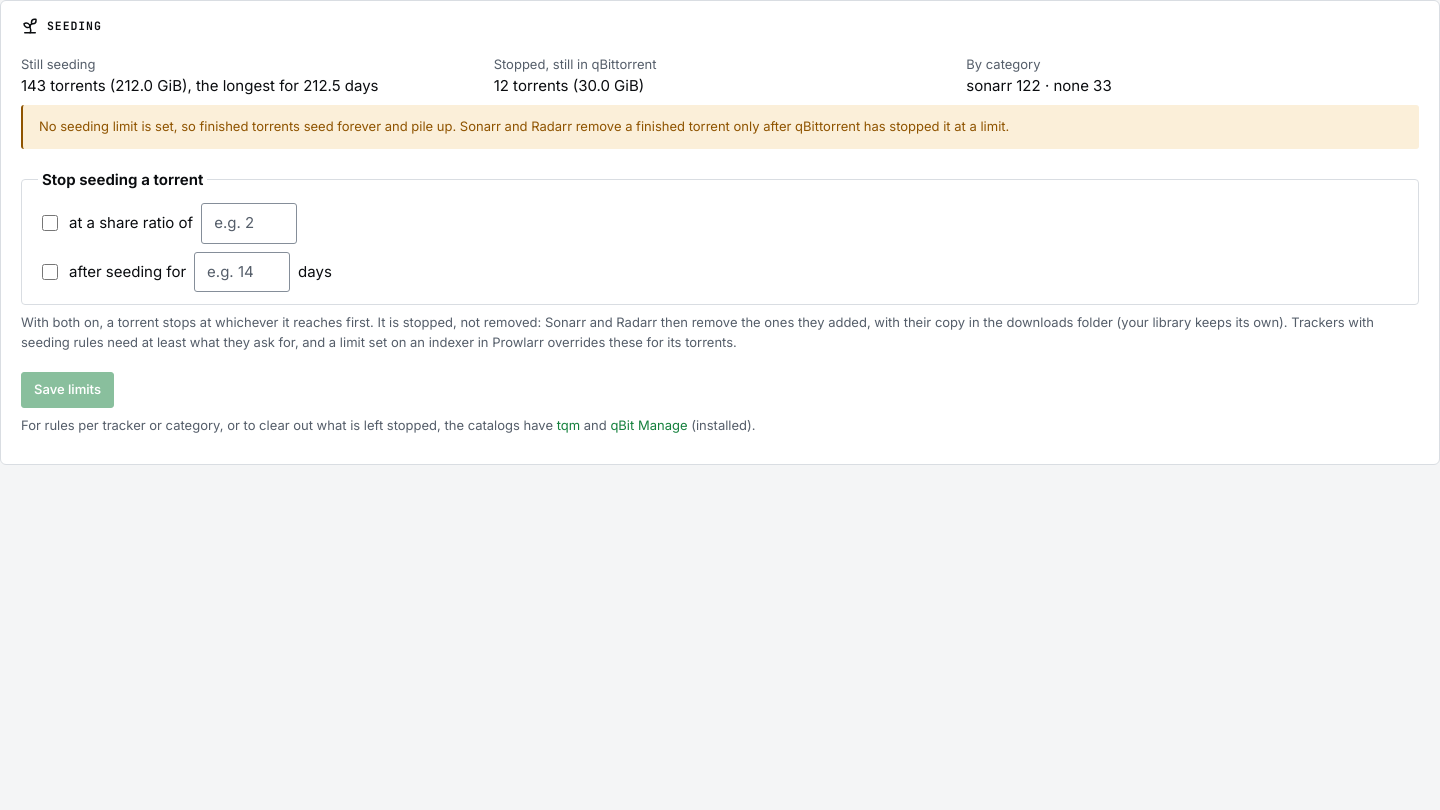
Test case: SeedingCard › says nothing will ever stop, and saves the limits typed in
Check: the element "Seeding" shows "143 torrents (212.0 GiB), the longest for 212.5 days", box left=0, top=0, right=1439, bottom=464
Check: the element "Seeding" shows "12 torrents (30.0 GiB)", box left=494, top=76, right=644, bottom=94
Click the checkbox labelled "at a share ratio of".
click(50, 223)  # box left=42, top=215, right=58, bottom=231
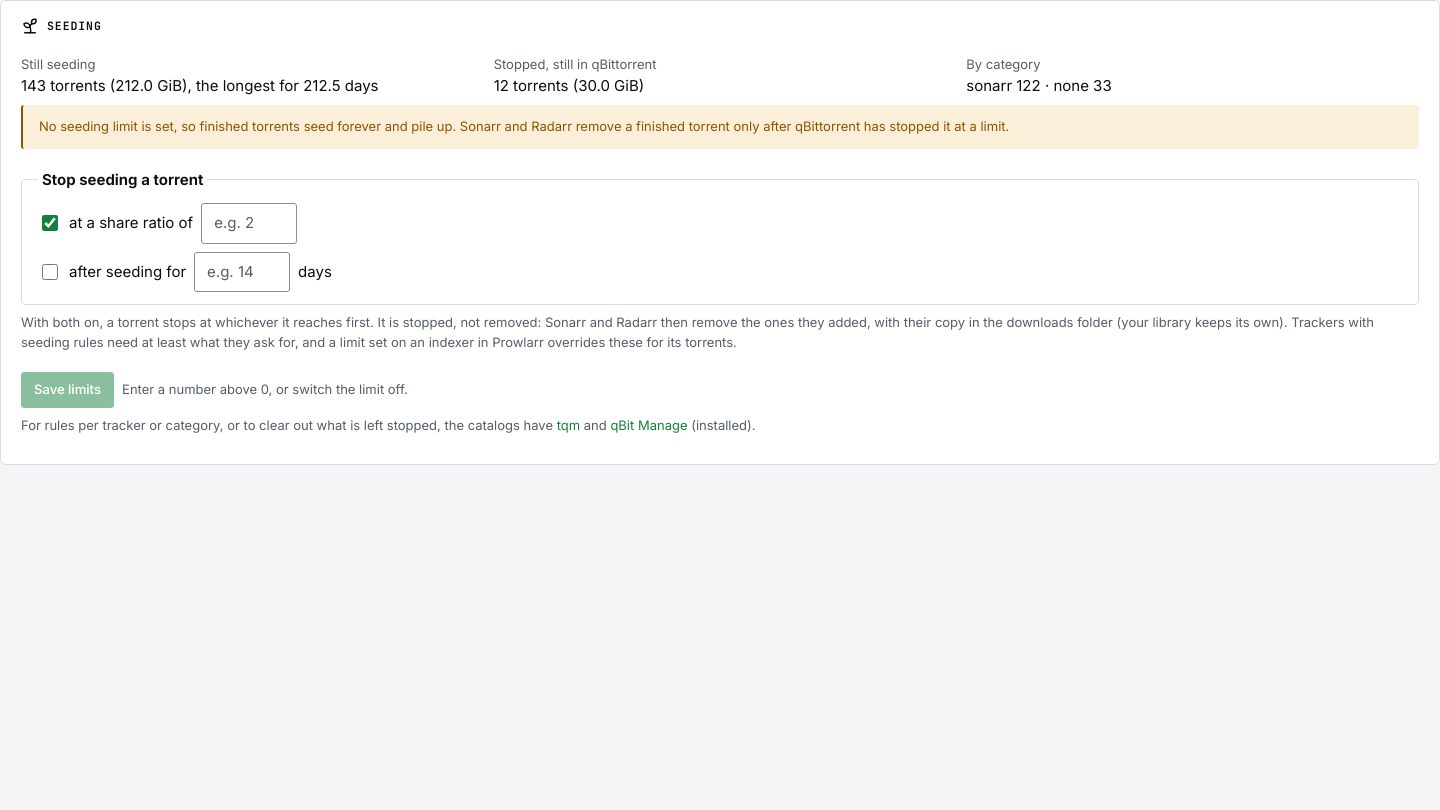
Check: the button "Save limits" is disabled, box left=21, top=372, right=114, bottom=408
Type "2" into the field named "Share ratio".
click(249, 223); type("2")  # box left=201, top=203, right=297, bottom=244
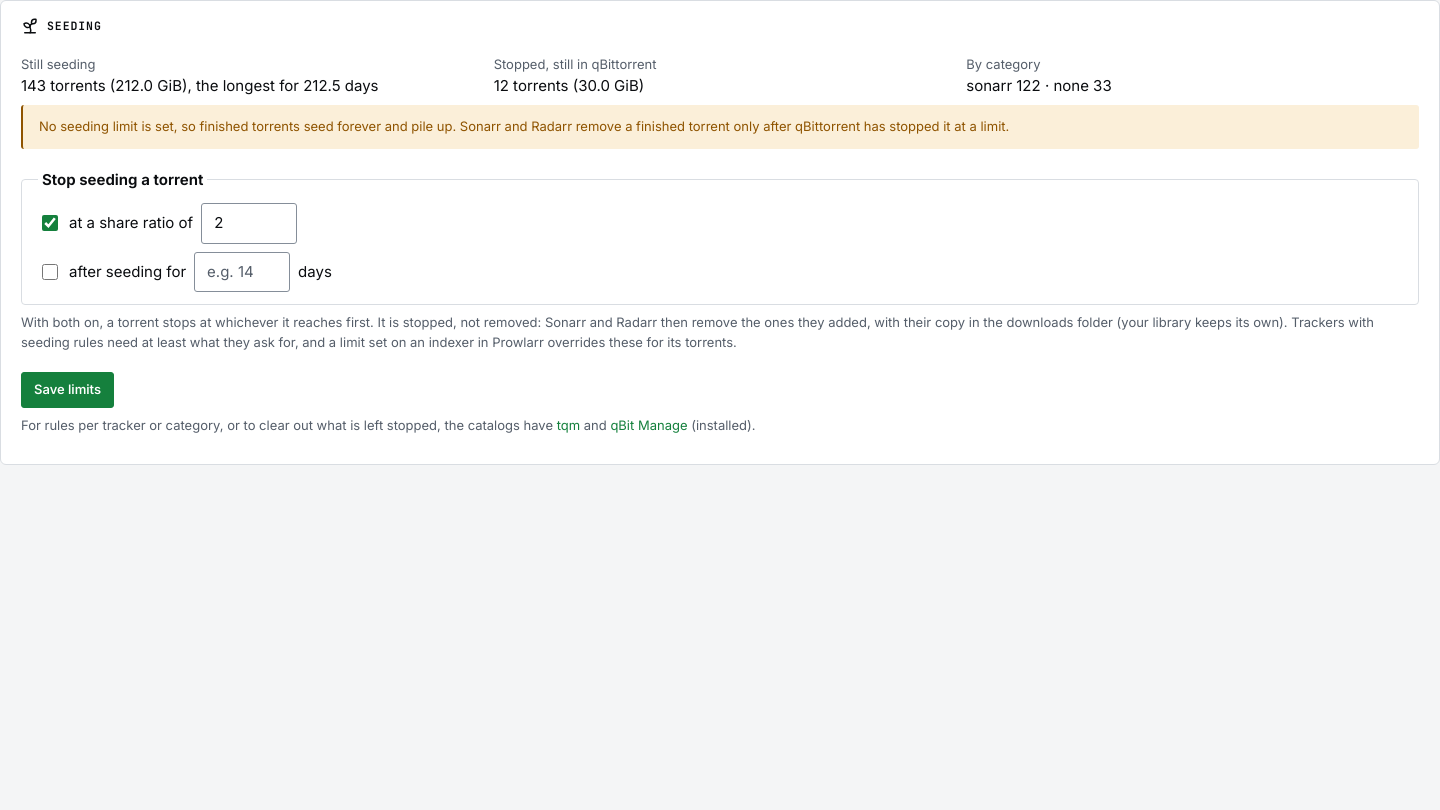
Click the checkbox labelled "after seeding for".
click(50, 272)  # box left=42, top=264, right=58, bottom=280
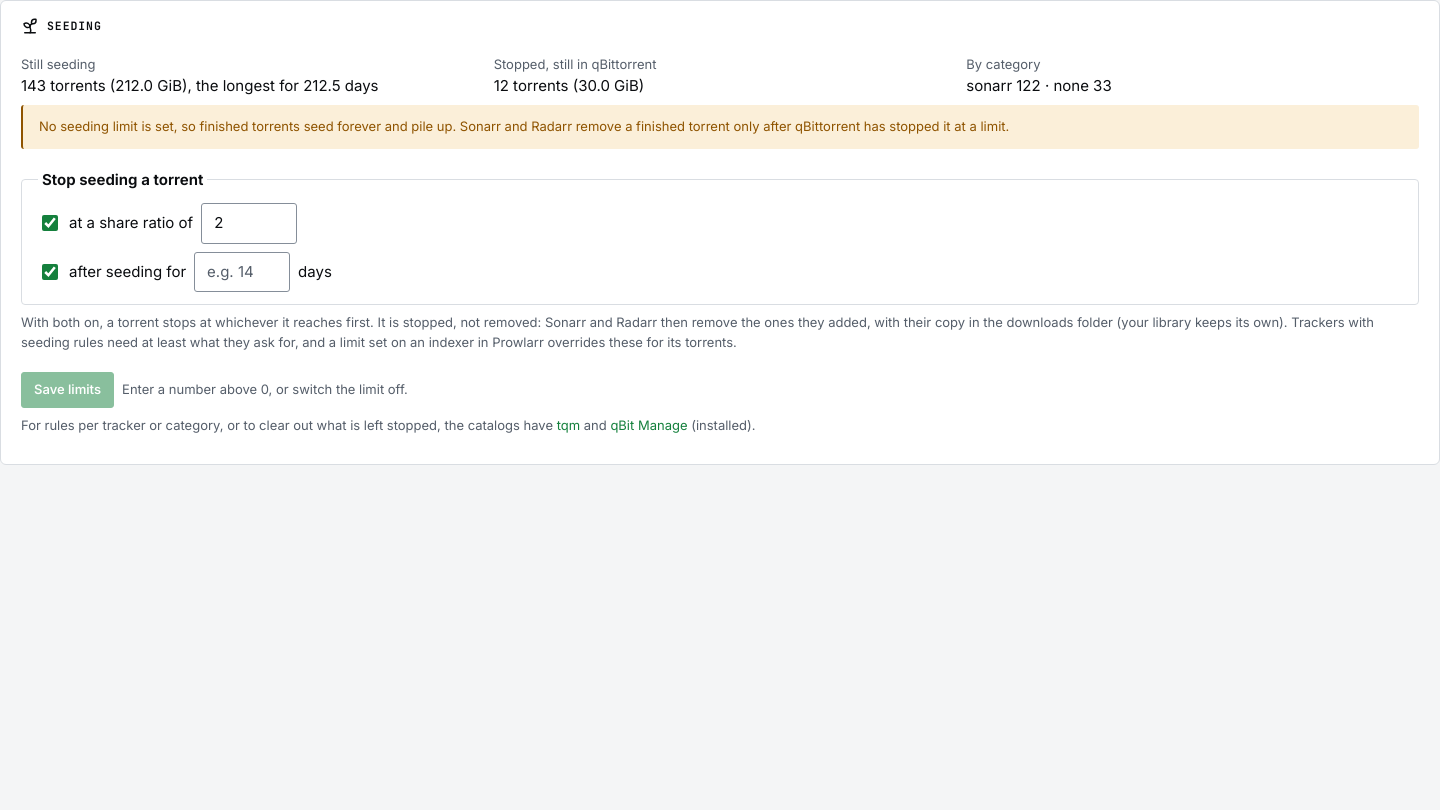
Type "14" into the field named "Days of seeding".
click(242, 272); type("14")  # box left=194, top=252, right=290, bottom=292
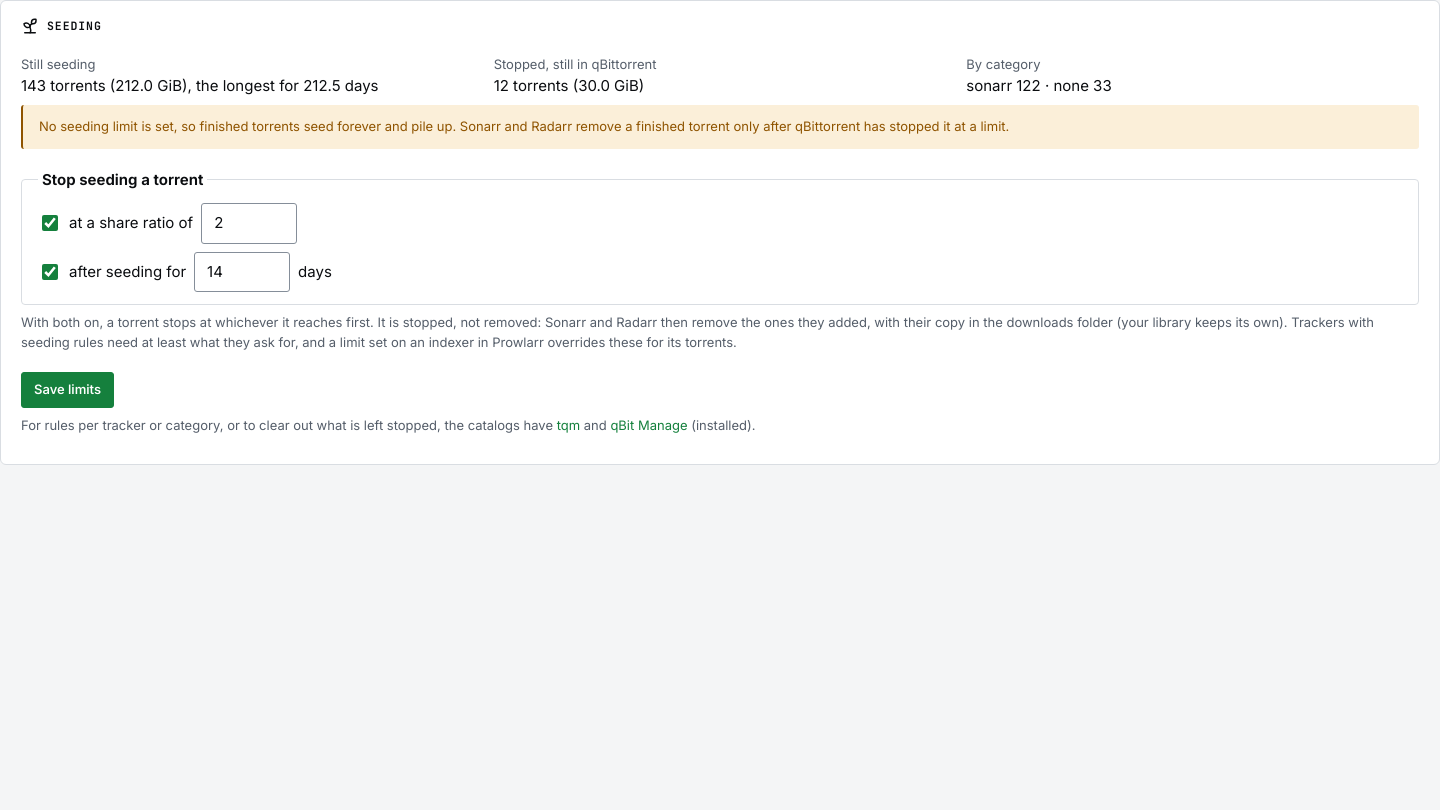
Click the button "Save limits".
click(68, 390)  # box left=21, top=372, right=114, bottom=408
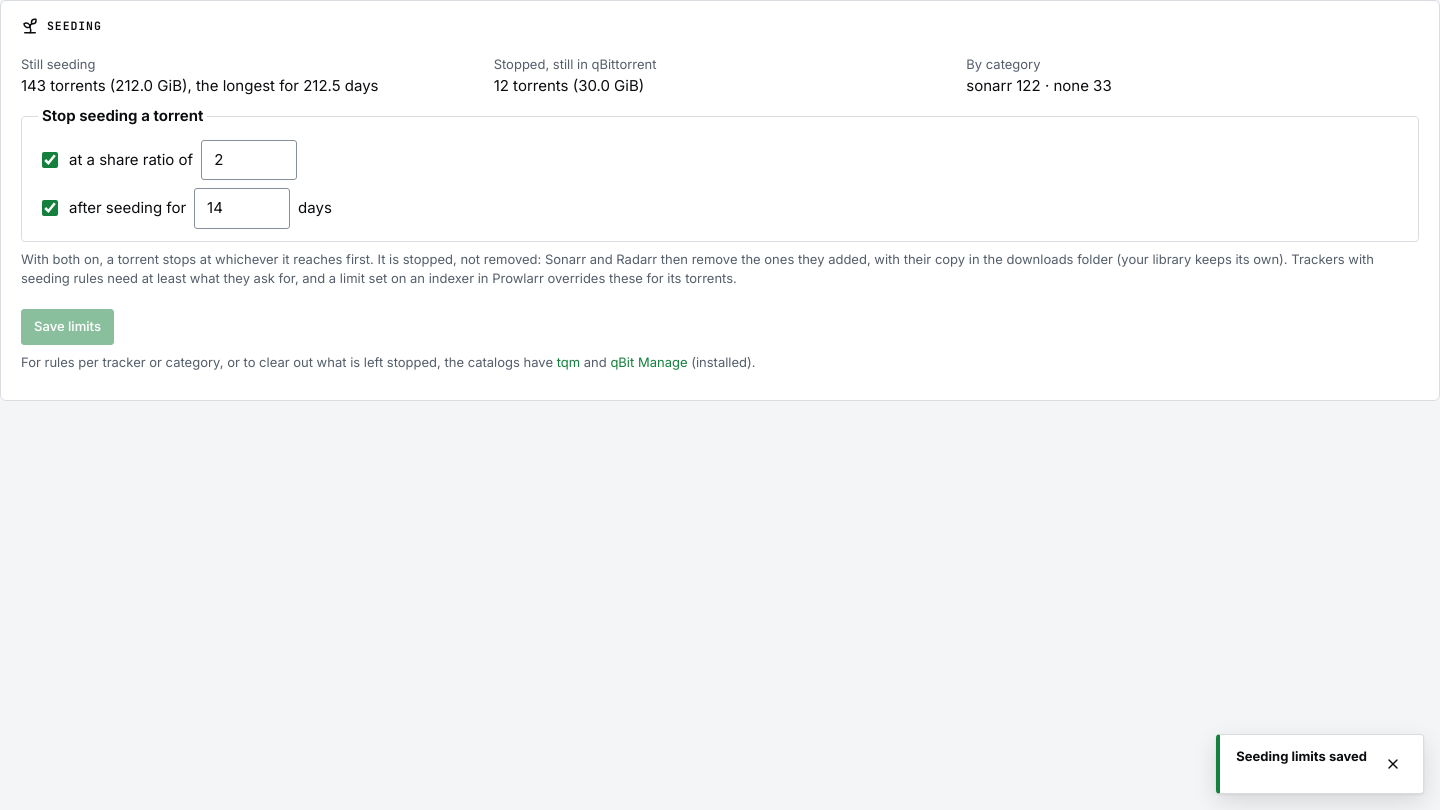
Check: the field named "Share ratio" holds "2", box left=201, top=140, right=297, bottom=180
Check: the element "Seeding" no longer shows "No seeding limit is set", box left=0, top=0, right=1439, bottom=401
Check: the button "Save limits" is disabled, box left=21, top=308, right=114, bottom=344
